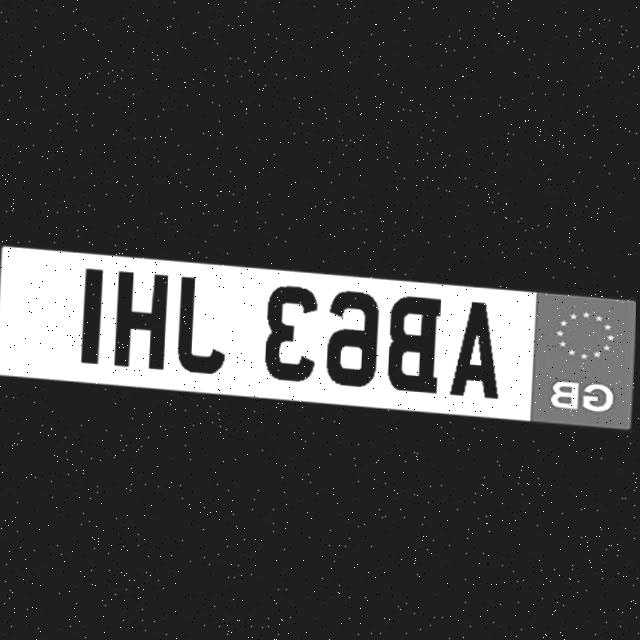license-plates: (0, 244, 635, 429)
